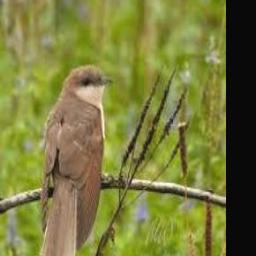Cuckoo: (38, 64, 114, 256)
